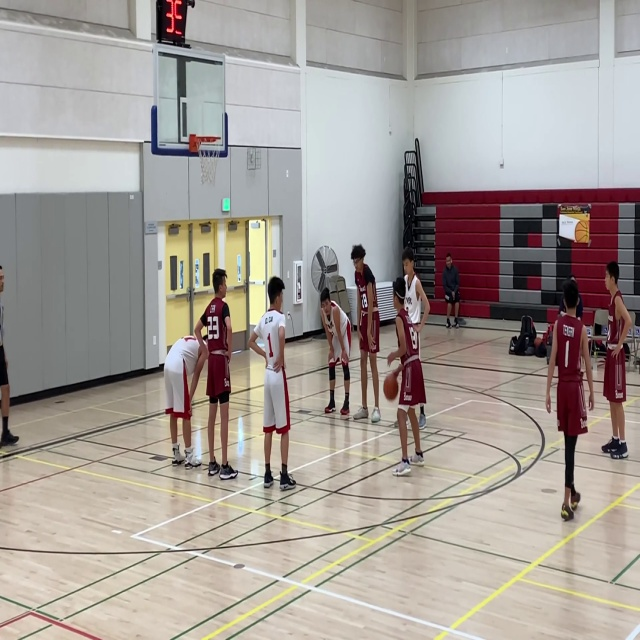Basketball: (383, 372, 399, 400)
